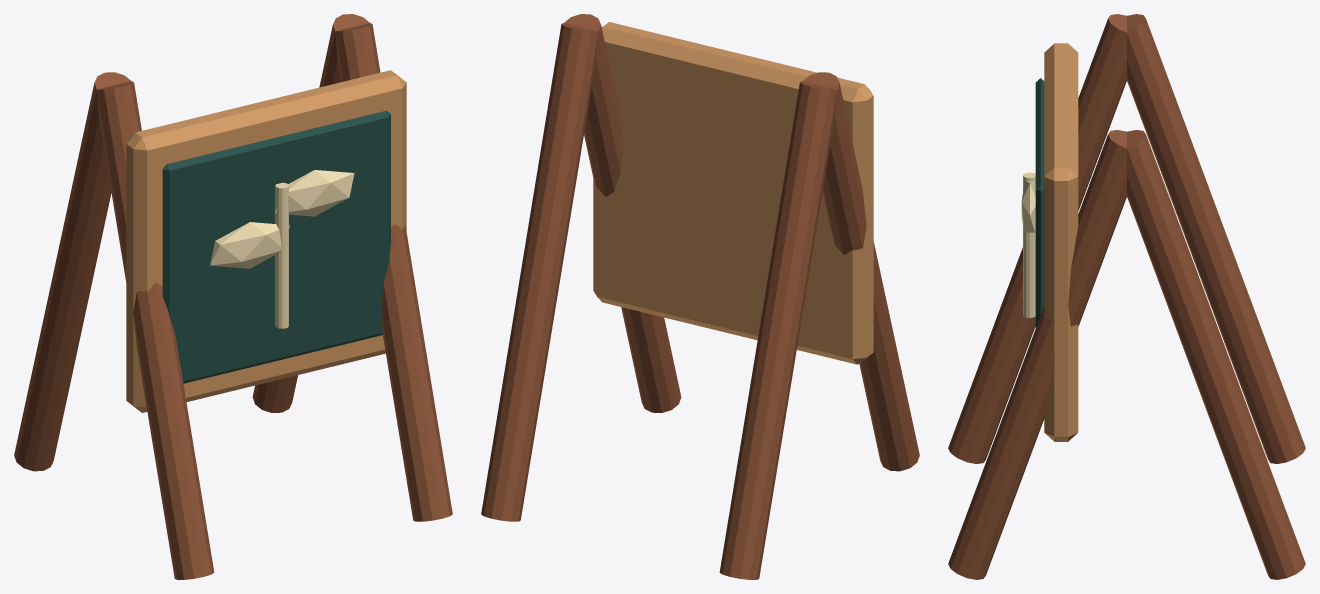
Rendered from 06_Sprout_Sign.glb.
3 renders of one model, left to right at view 1: azimuth 30°, elevation 25°; view 2: azimuth 150°, elevation 25°; view 3: azimuth 270°, elevation 25°, orthographic.
Parts seen in each view (by area): view 1: 06_Sprout_Sign; view 2: 06_Sprout_Sign; view 3: 06_Sprout_Sign.
Part boxes in pixels (x1=…): 06_Sprout_Sign: x1=14, y1=14, x2=452, y2=579; 06_Sprout_Sign: x1=481, y1=14, x2=919, y2=579; 06_Sprout_Sign: x1=948, y1=14, x2=1305, y2=579.
Bounding box in the file's own units: 0.55 × 0.8524 × 0.6263.
